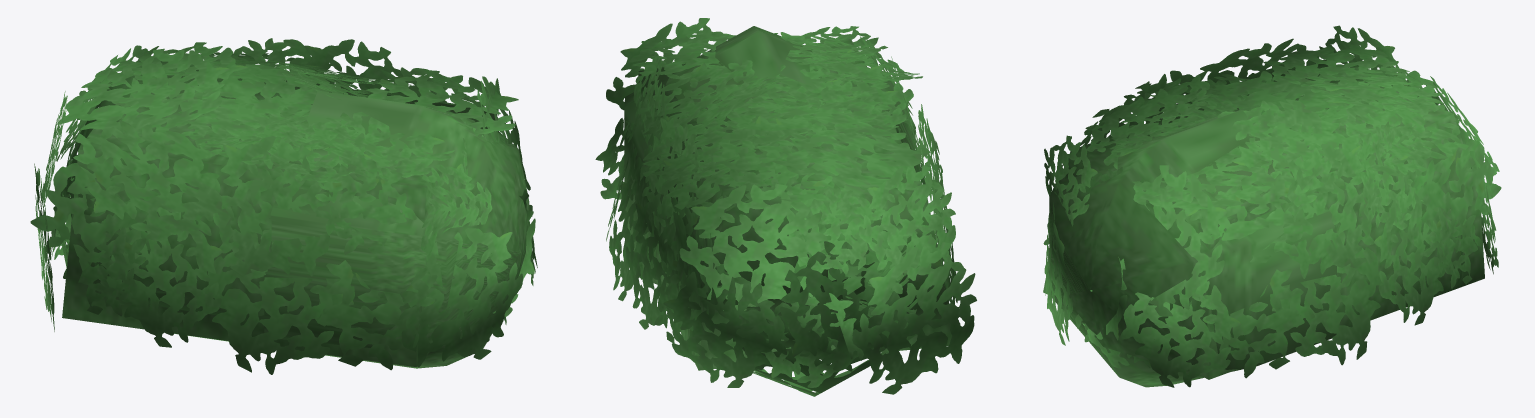
The model's file is Bush.fbx.
3 renders of one model, left to right at view 1: azimuth 30°, elevation 25°; view 2: azimuth 150°, elevation 25°; view 3: azimuth 270°, elevation 25°, orthographic. The views are drawn at different scales.
Visible parts, largest first — view 1: Bush, Capsule; view 2: Bush, Capsule; view 3: Bush, Capsule.
Boxes of the visible parts, <box> form: Bush: <box>30,38,537,374</box>; Capsule: <box>60,75,529,368</box>; Bush: <box>595,18,976,394</box>; Capsule: <box>624,26,941,396</box>; Bush: <box>1043,25,1501,387</box>; Capsule: <box>1049,69,1462,387</box>.
Size of the model in its own units: 215 by 129 by 209.
